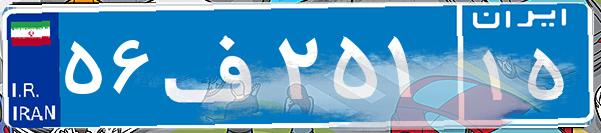1: (385, 28, 445, 110), (475, 38, 525, 113)
2: (273, 28, 330, 110)
5: (330, 28, 385, 110), (57, 26, 110, 107), (525, 38, 570, 115)
6: (110, 28, 158, 105)
ف: (158, 15, 273, 115)
